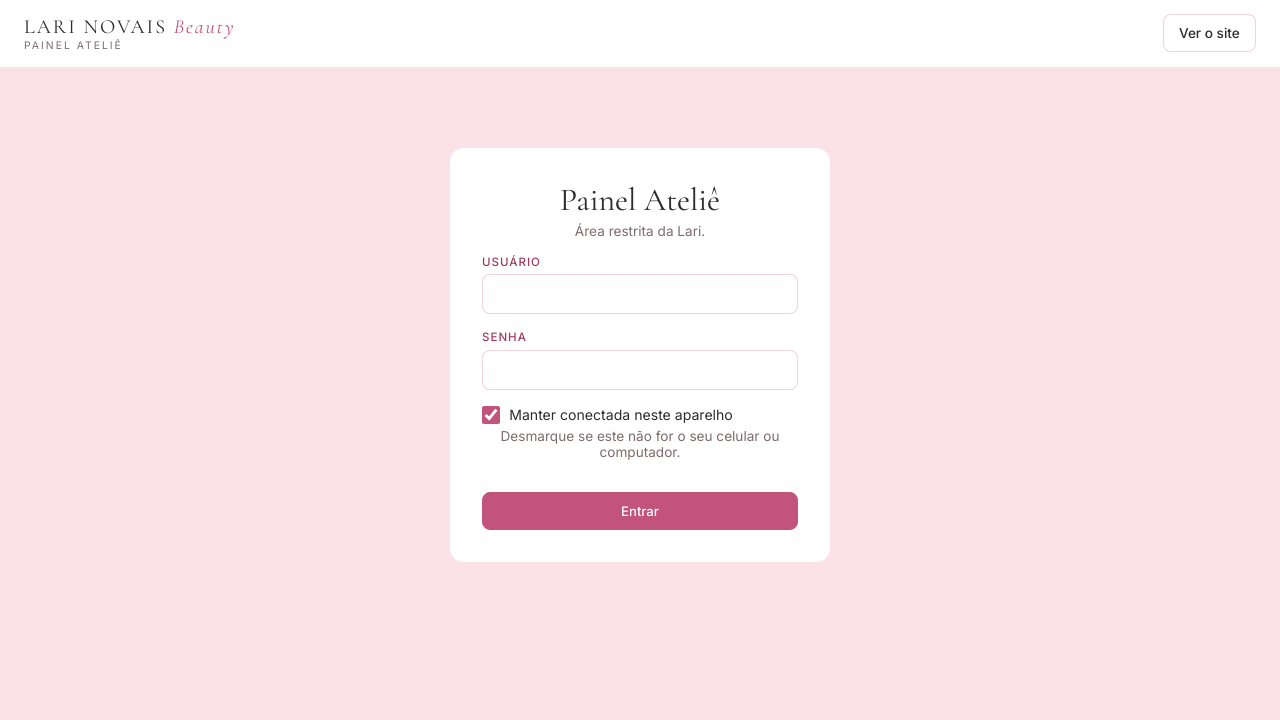
Painel Ateliê › mostra erro de login
In the field labelled "Usuário": (640, 294) [482,274,798,314], type "lari"
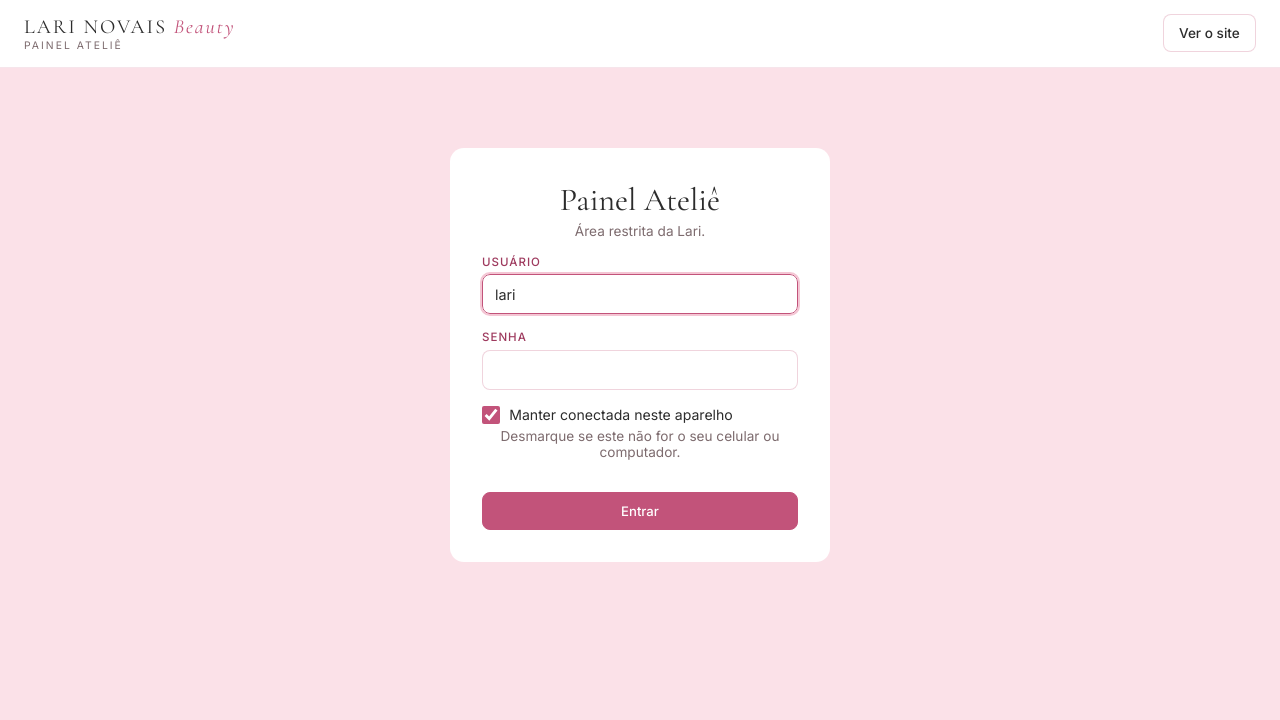
In the password field labelled "Senha": (640, 370) [482,350,798,390], type "segredo"
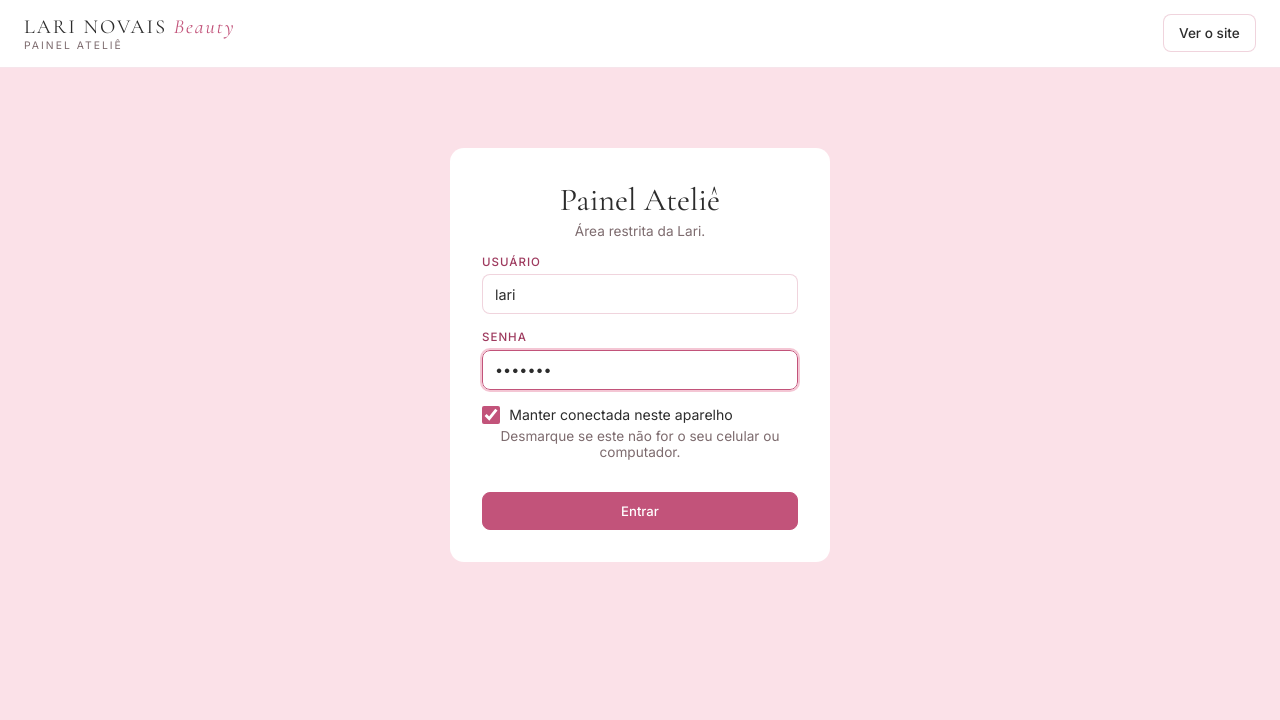
Click the button "Entrar": (640, 511) [482,492,798,530]
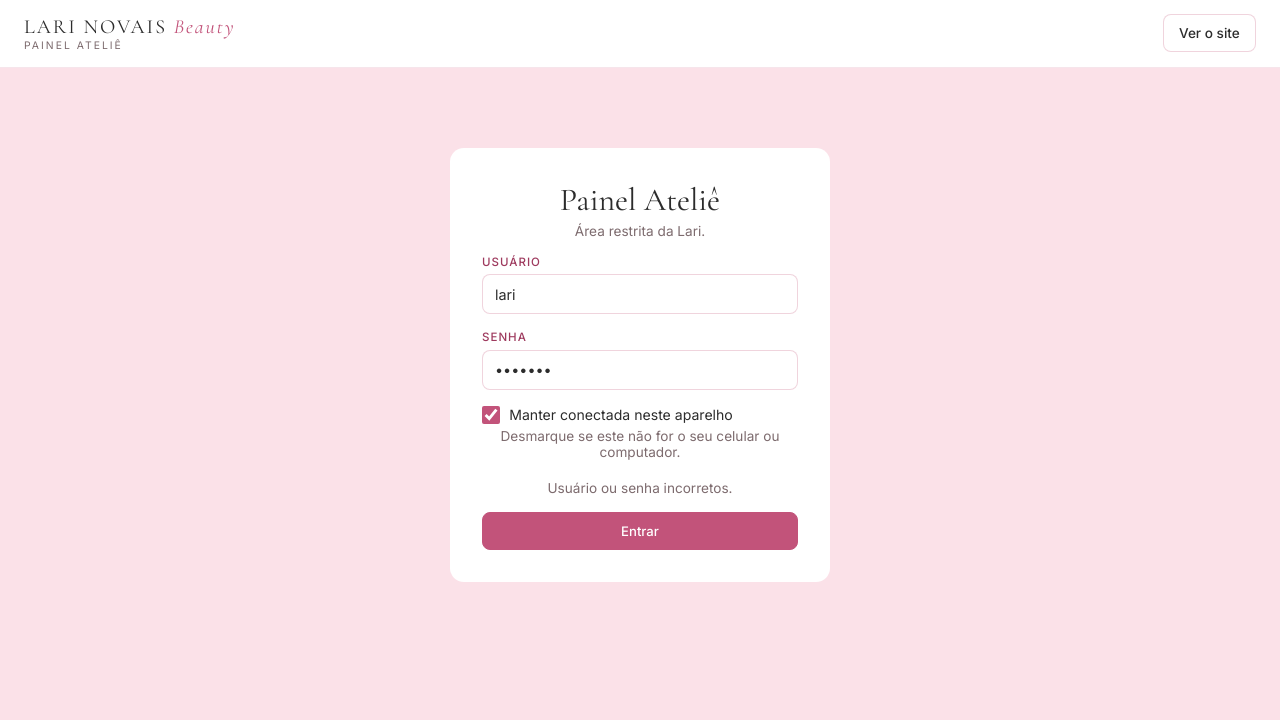
Expected: the message reads "Usuário ou senha incorretos.", [548,480,733,496]
